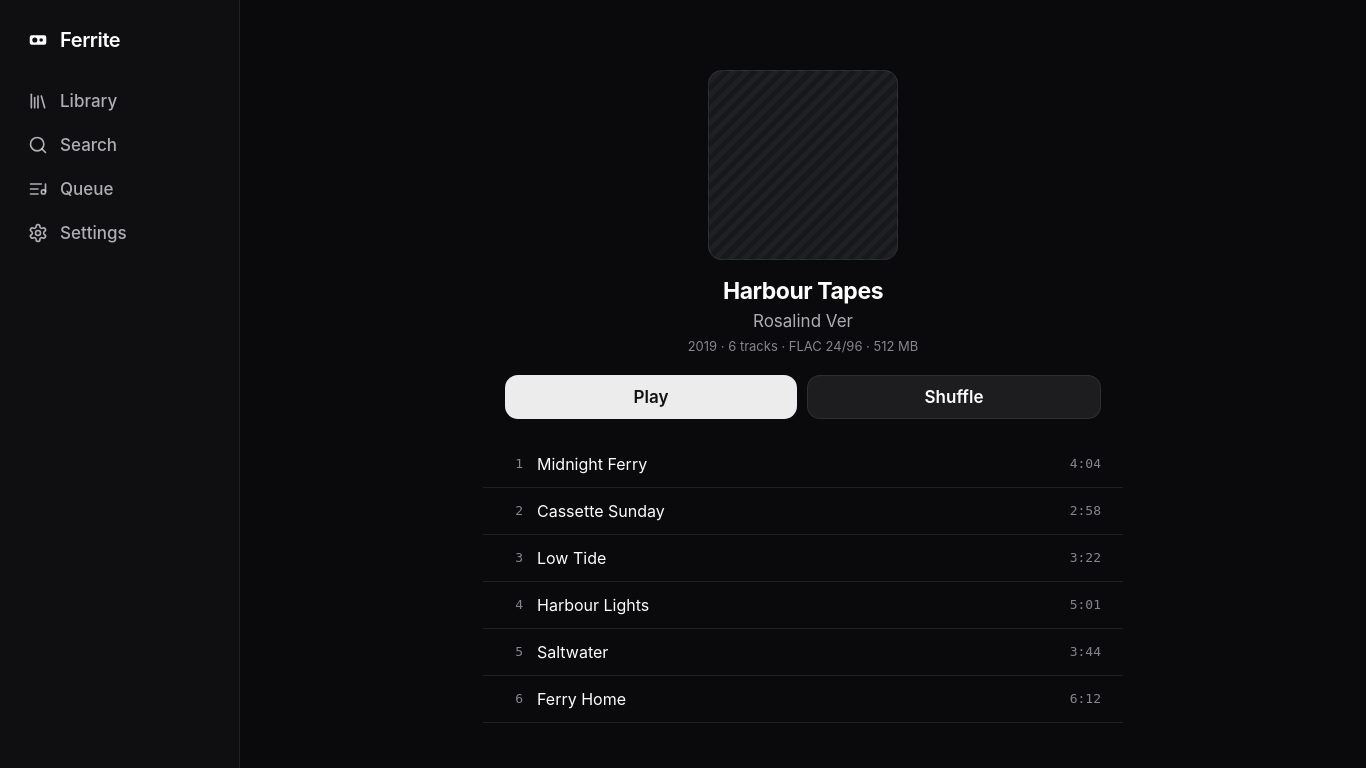
Scenario: App › ticks the scrubber for a mocked demo track that has no real audio to play
Click the text "Cassette Sunday" at coordinates (601, 511), box [537,501,665,521]
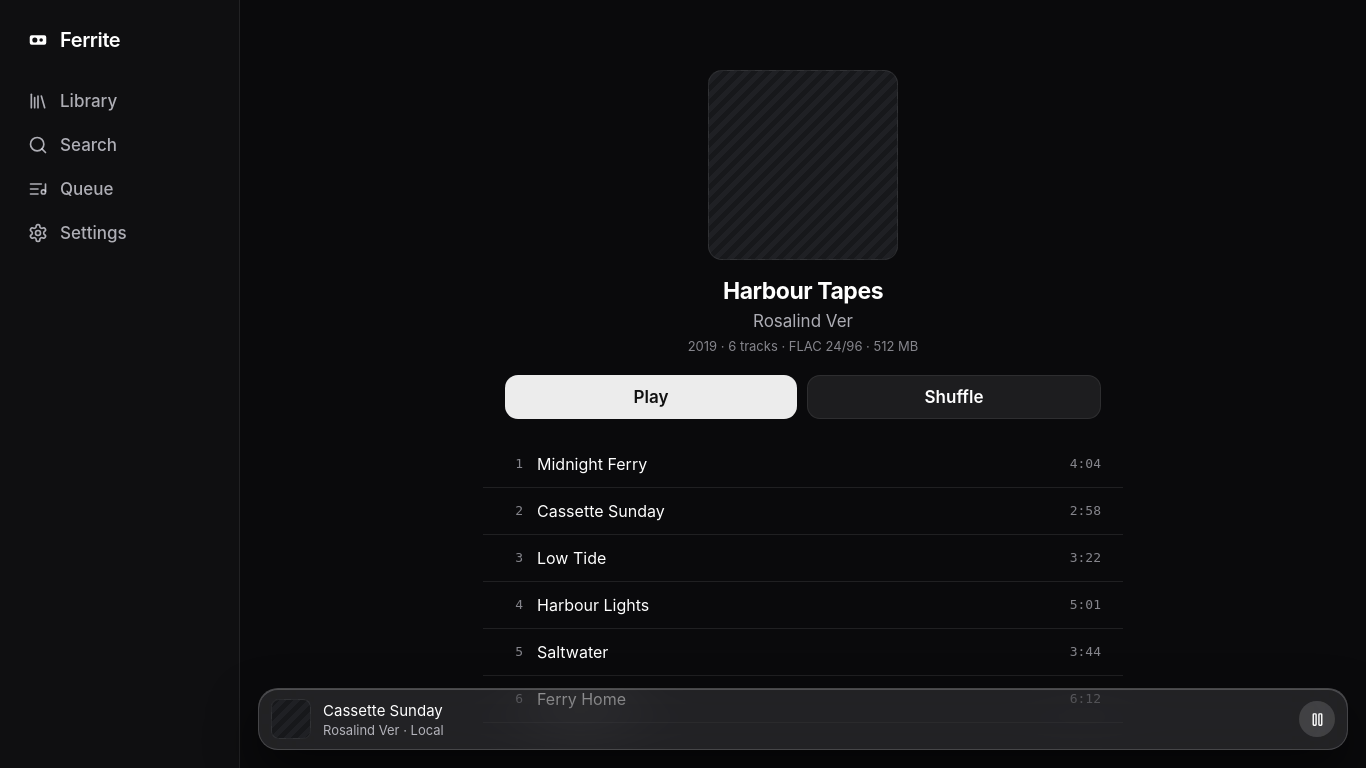
Click the button named "Open now playing" at coordinates (291, 719), box [271,699,311,739]
Wait 3000 ms
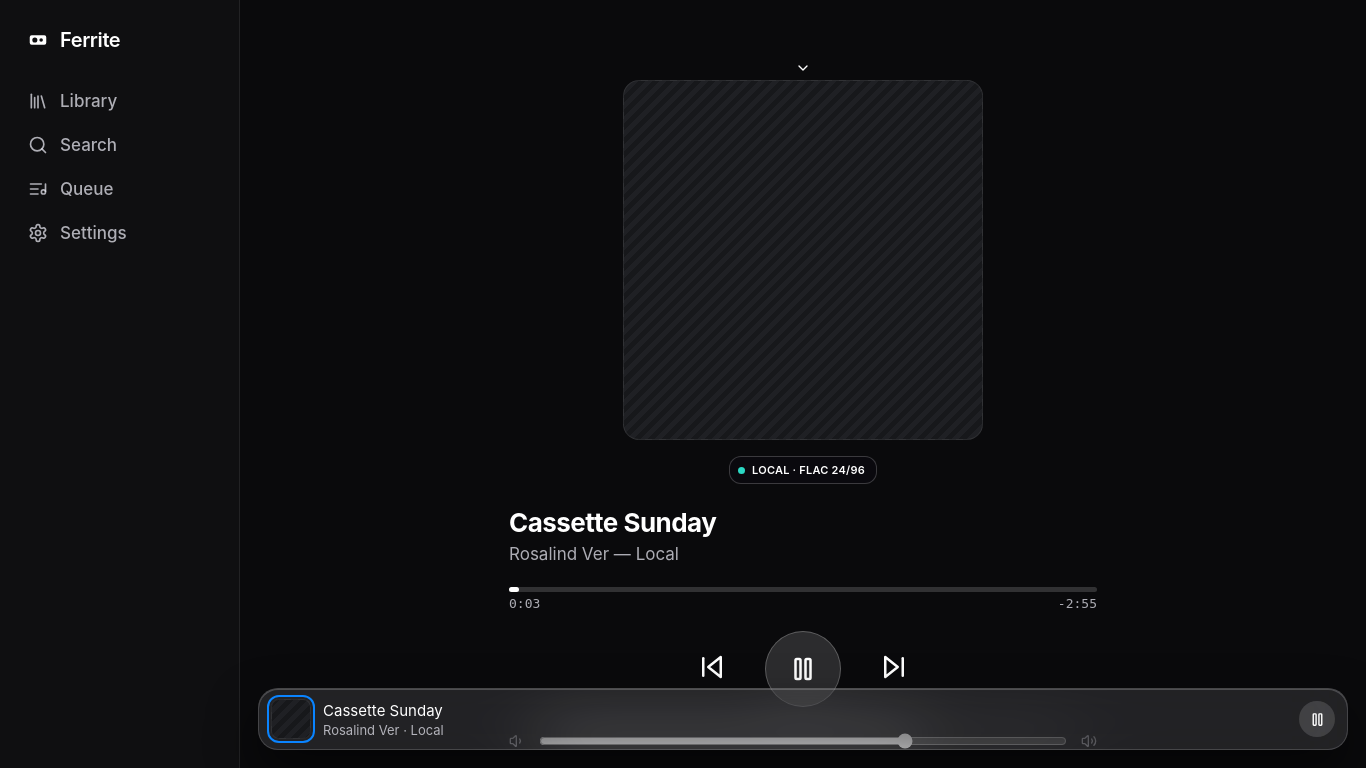
Expected: the text "0:03" is shown, [509,596,540,611]
